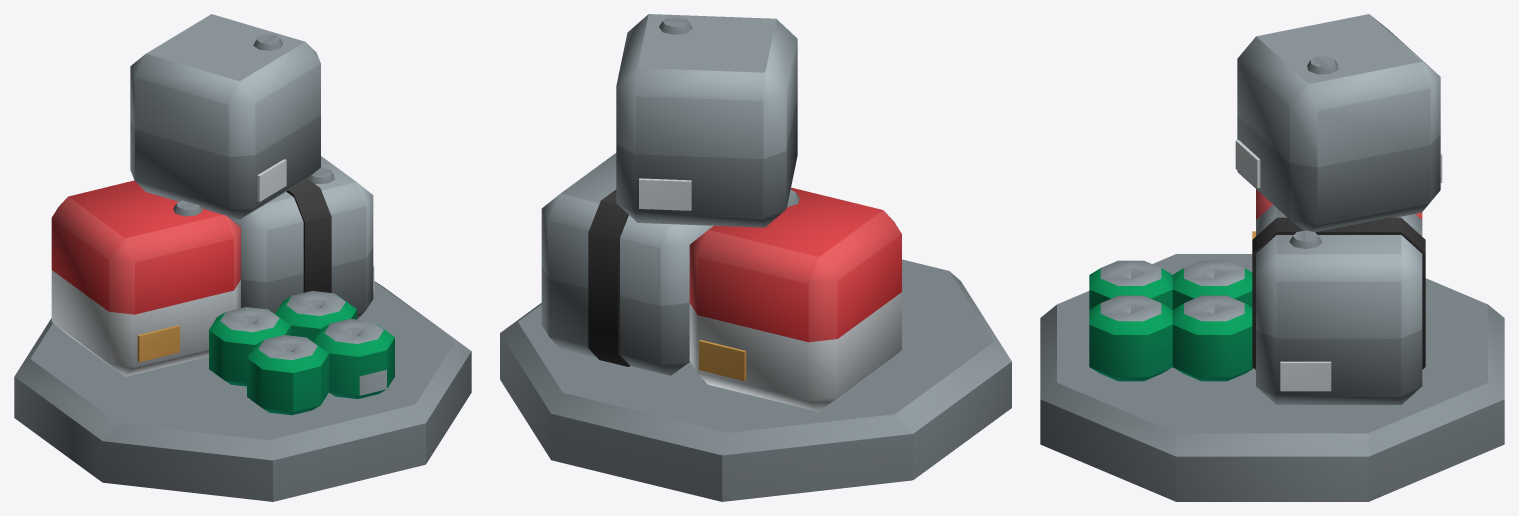
The model's file is roofmodule_cargo_b.glb.
3 views of the same model, side by side, from view 1: azimuth 30°, elevation 25°; view 2: azimuth 150°, elevation 25°; view 3: azimuth 270°, elevation 25° (orthographic). The views are drawn at different scales.
Visible parts, largest first — view 1: roofmodule_cargo_B; view 2: roofmodule_cargo_B; view 3: roofmodule_cargo_B.
Part boxes in pixels (x1,y1,x2,y2): roofmodule_cargo_B: (14, 14, 471, 501); roofmodule_cargo_B: (500, 14, 1011, 501); roofmodule_cargo_B: (1040, 14, 1504, 501).
Size of the model in its own units: 4.19 by 3.66 by 4.19.
1 material, 1 textured.
